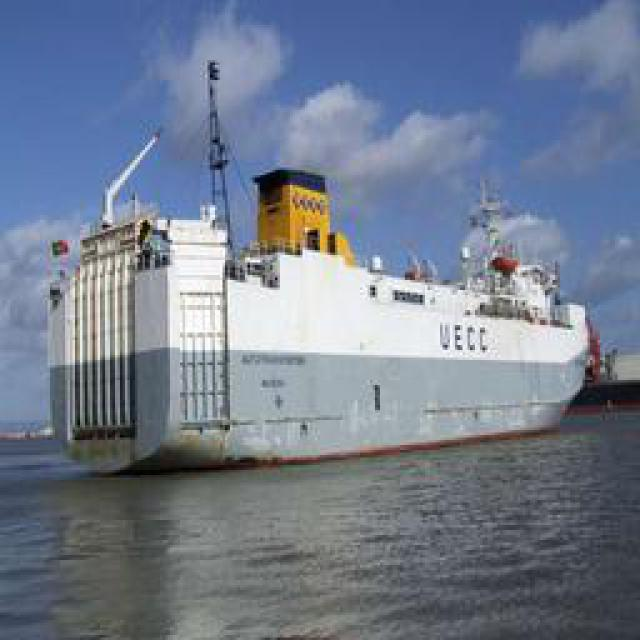Ship: (37, 117, 595, 470)
